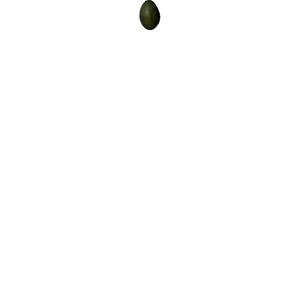abacate: (139, 1, 161, 32)
